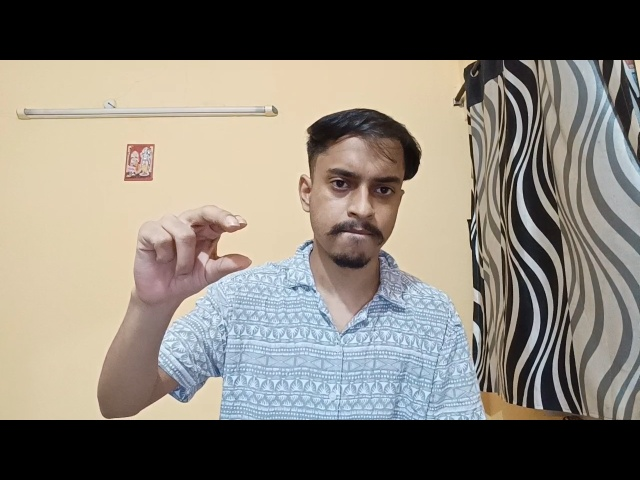No: (113, 178, 278, 315)
